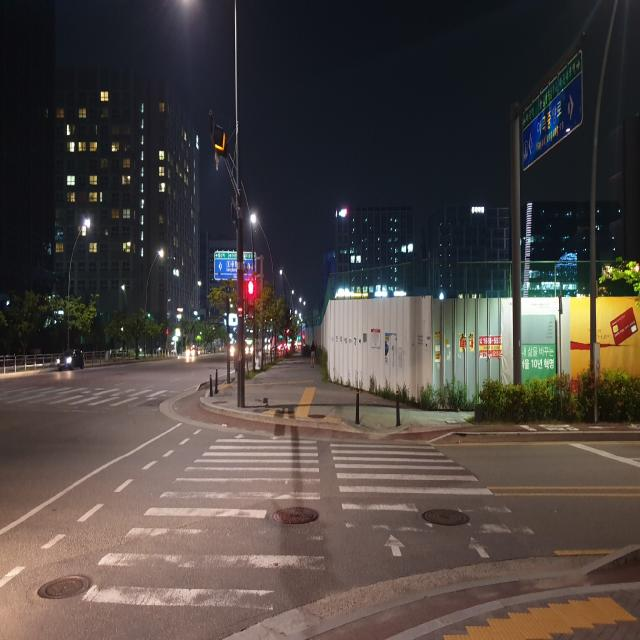빨간불: (248, 280, 255, 322)
횡단보도: (78, 432, 538, 616)
